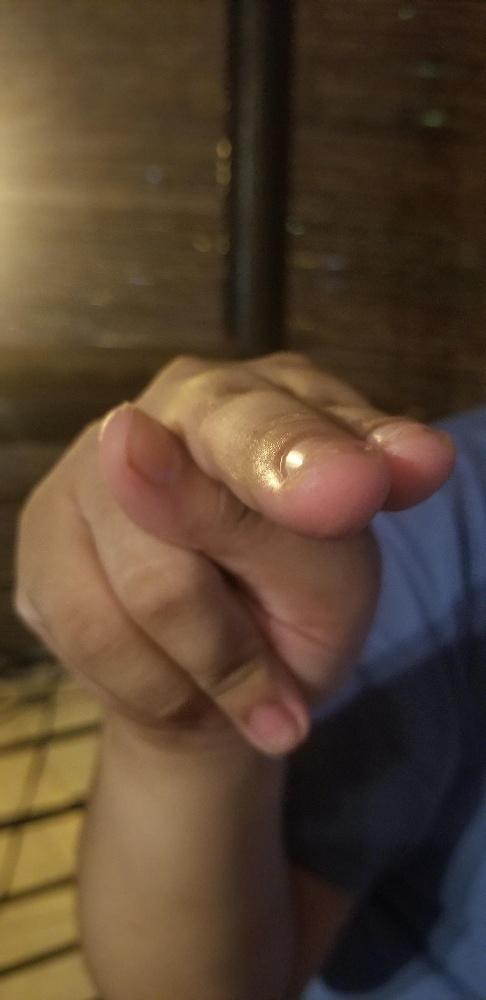n: (9, 346, 458, 754)
